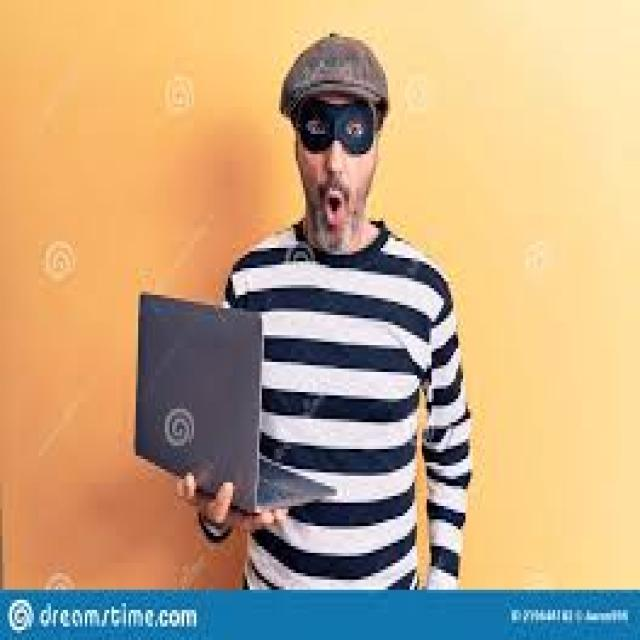cap: (284, 37, 392, 244)
